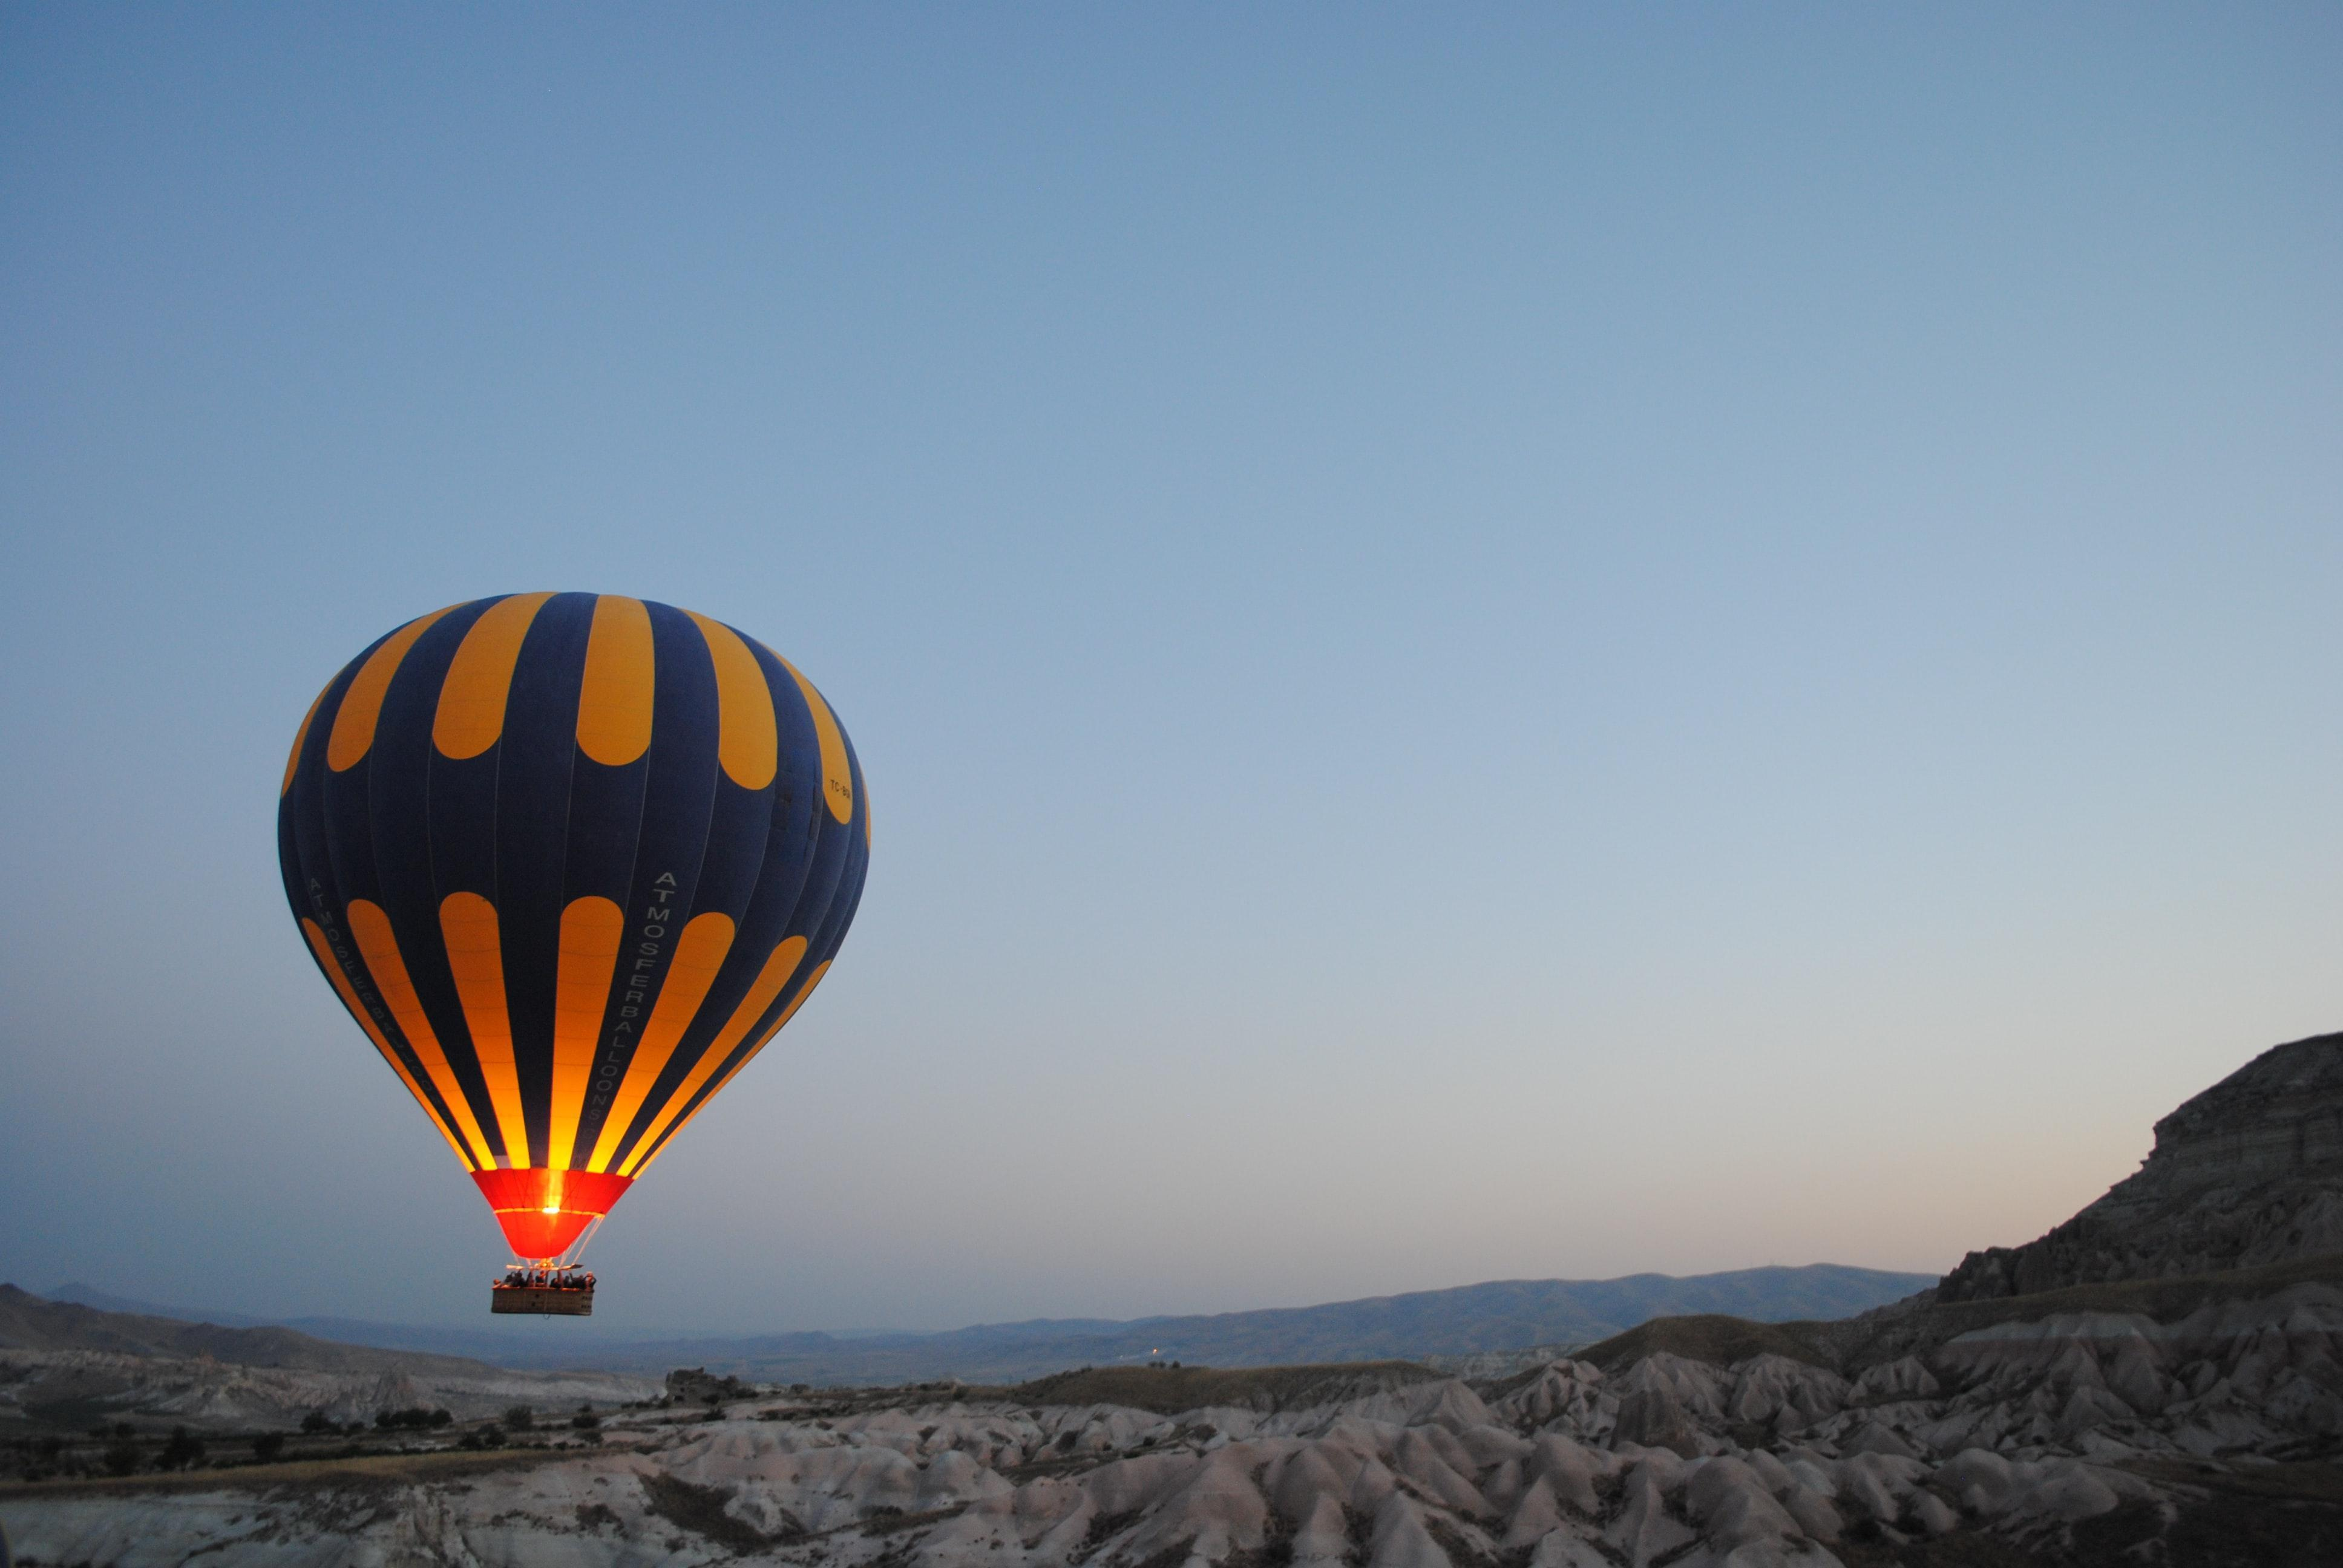hot air ballon: (280, 588, 870, 1318)
